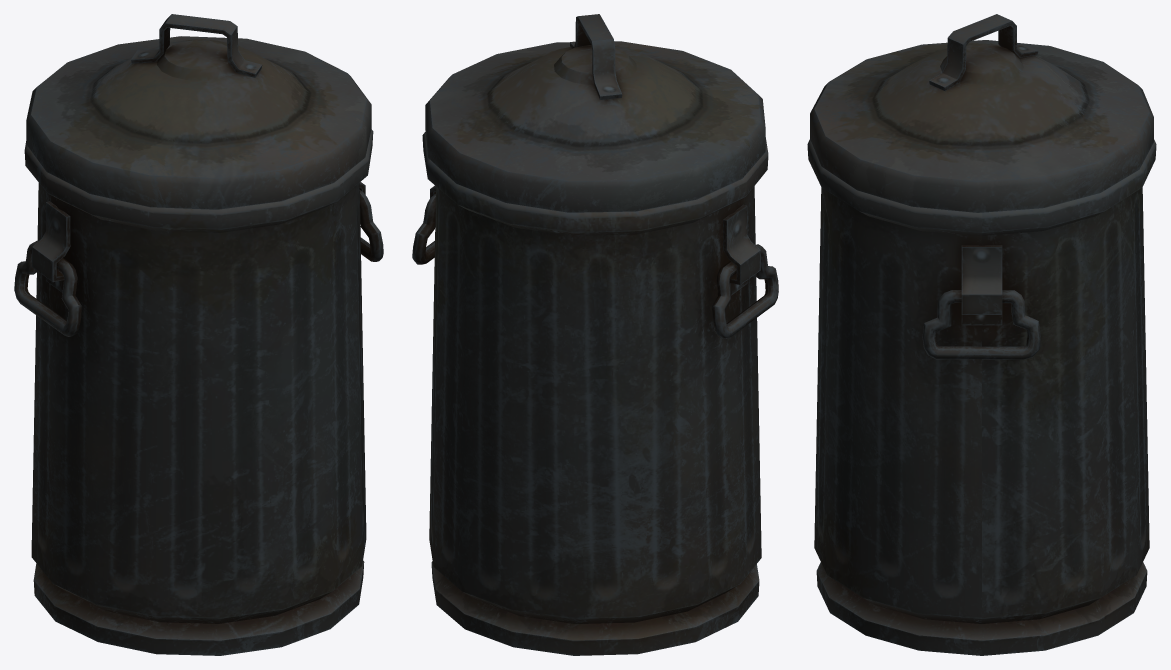
File: trashcan.fbx
The picture shows the model from 3 angles, left to right: view 1: azimuth 30°, elevation 25°; view 2: azimuth 150°, elevation 25°; view 3: azimuth 270°, elevation 25°; orthographic projection.
Parts seen in each view (by area): view 1: can, lid; view 2: can, lid; view 3: can, lid.
Part boxes in pixels (<box>): can: <box>14,129,383,655</box>; lid: <box>26,14,371,209</box>; can: <box>412,132,778,655</box>; lid: <box>425,14,765,212</box>; can: <box>807,139,1156,655</box>; lid: <box>810,14,1153,212</box>.
Bounding box in the file's own units: 61.89 × 105 × 59.31.
